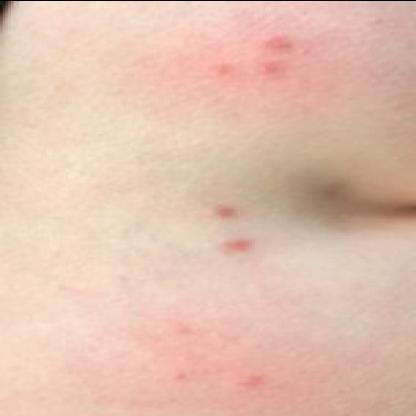Fire ant: (200, 35, 304, 81), (207, 236, 258, 254), (199, 202, 235, 224), (230, 375, 263, 386), (168, 324, 192, 336), (167, 372, 186, 382)
